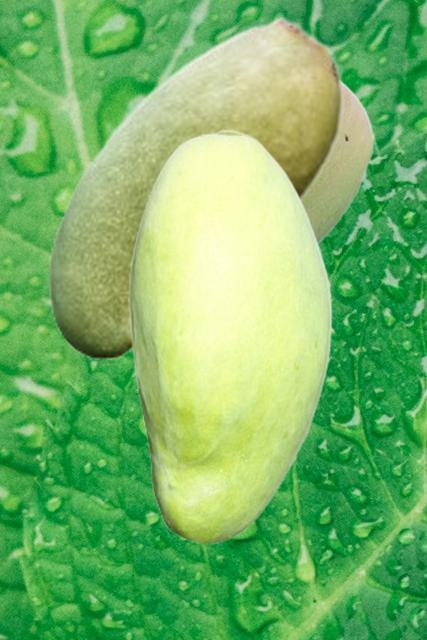green_mango: (47, 15, 343, 358), (128, 129, 331, 543), (305, 80, 373, 245)
